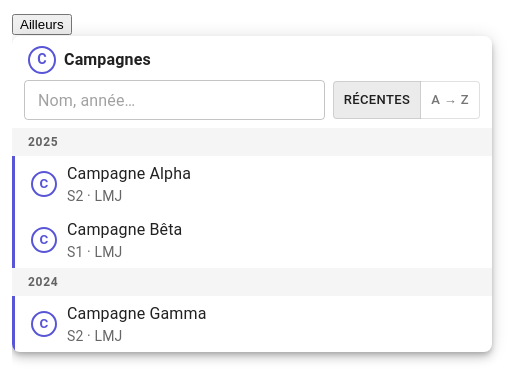
it: EntityRefPicker — étape 2 (références de la campagne) › exclut les références déjà attachées (campagne elle-même et FSEC)
Step 1. Click the menu item "C Campagne Alpha S2 · LMJ" → [129, 174], box 12,156 -> 492,212
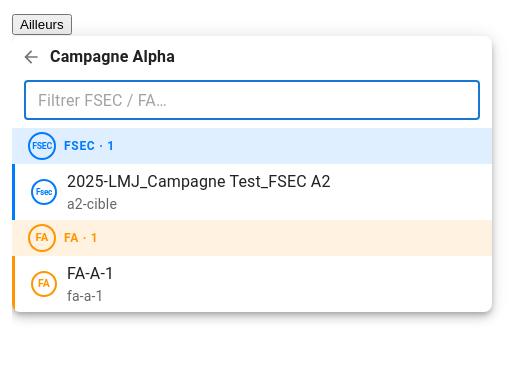
Result: the text "FSEC · 1" is shown at 64,139 -> 115,153
Result: the menu item "Fsec 2025-LMJ_Campagne Test_FSEC A2 a2-cible" is shown at 12,164 -> 492,220
Result: the menu item "FA FA-A-1 fa-a-1" is shown at 12,256 -> 492,312
